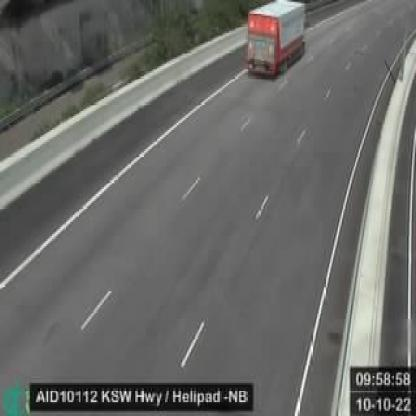Truck: (244, 0, 306, 78)
